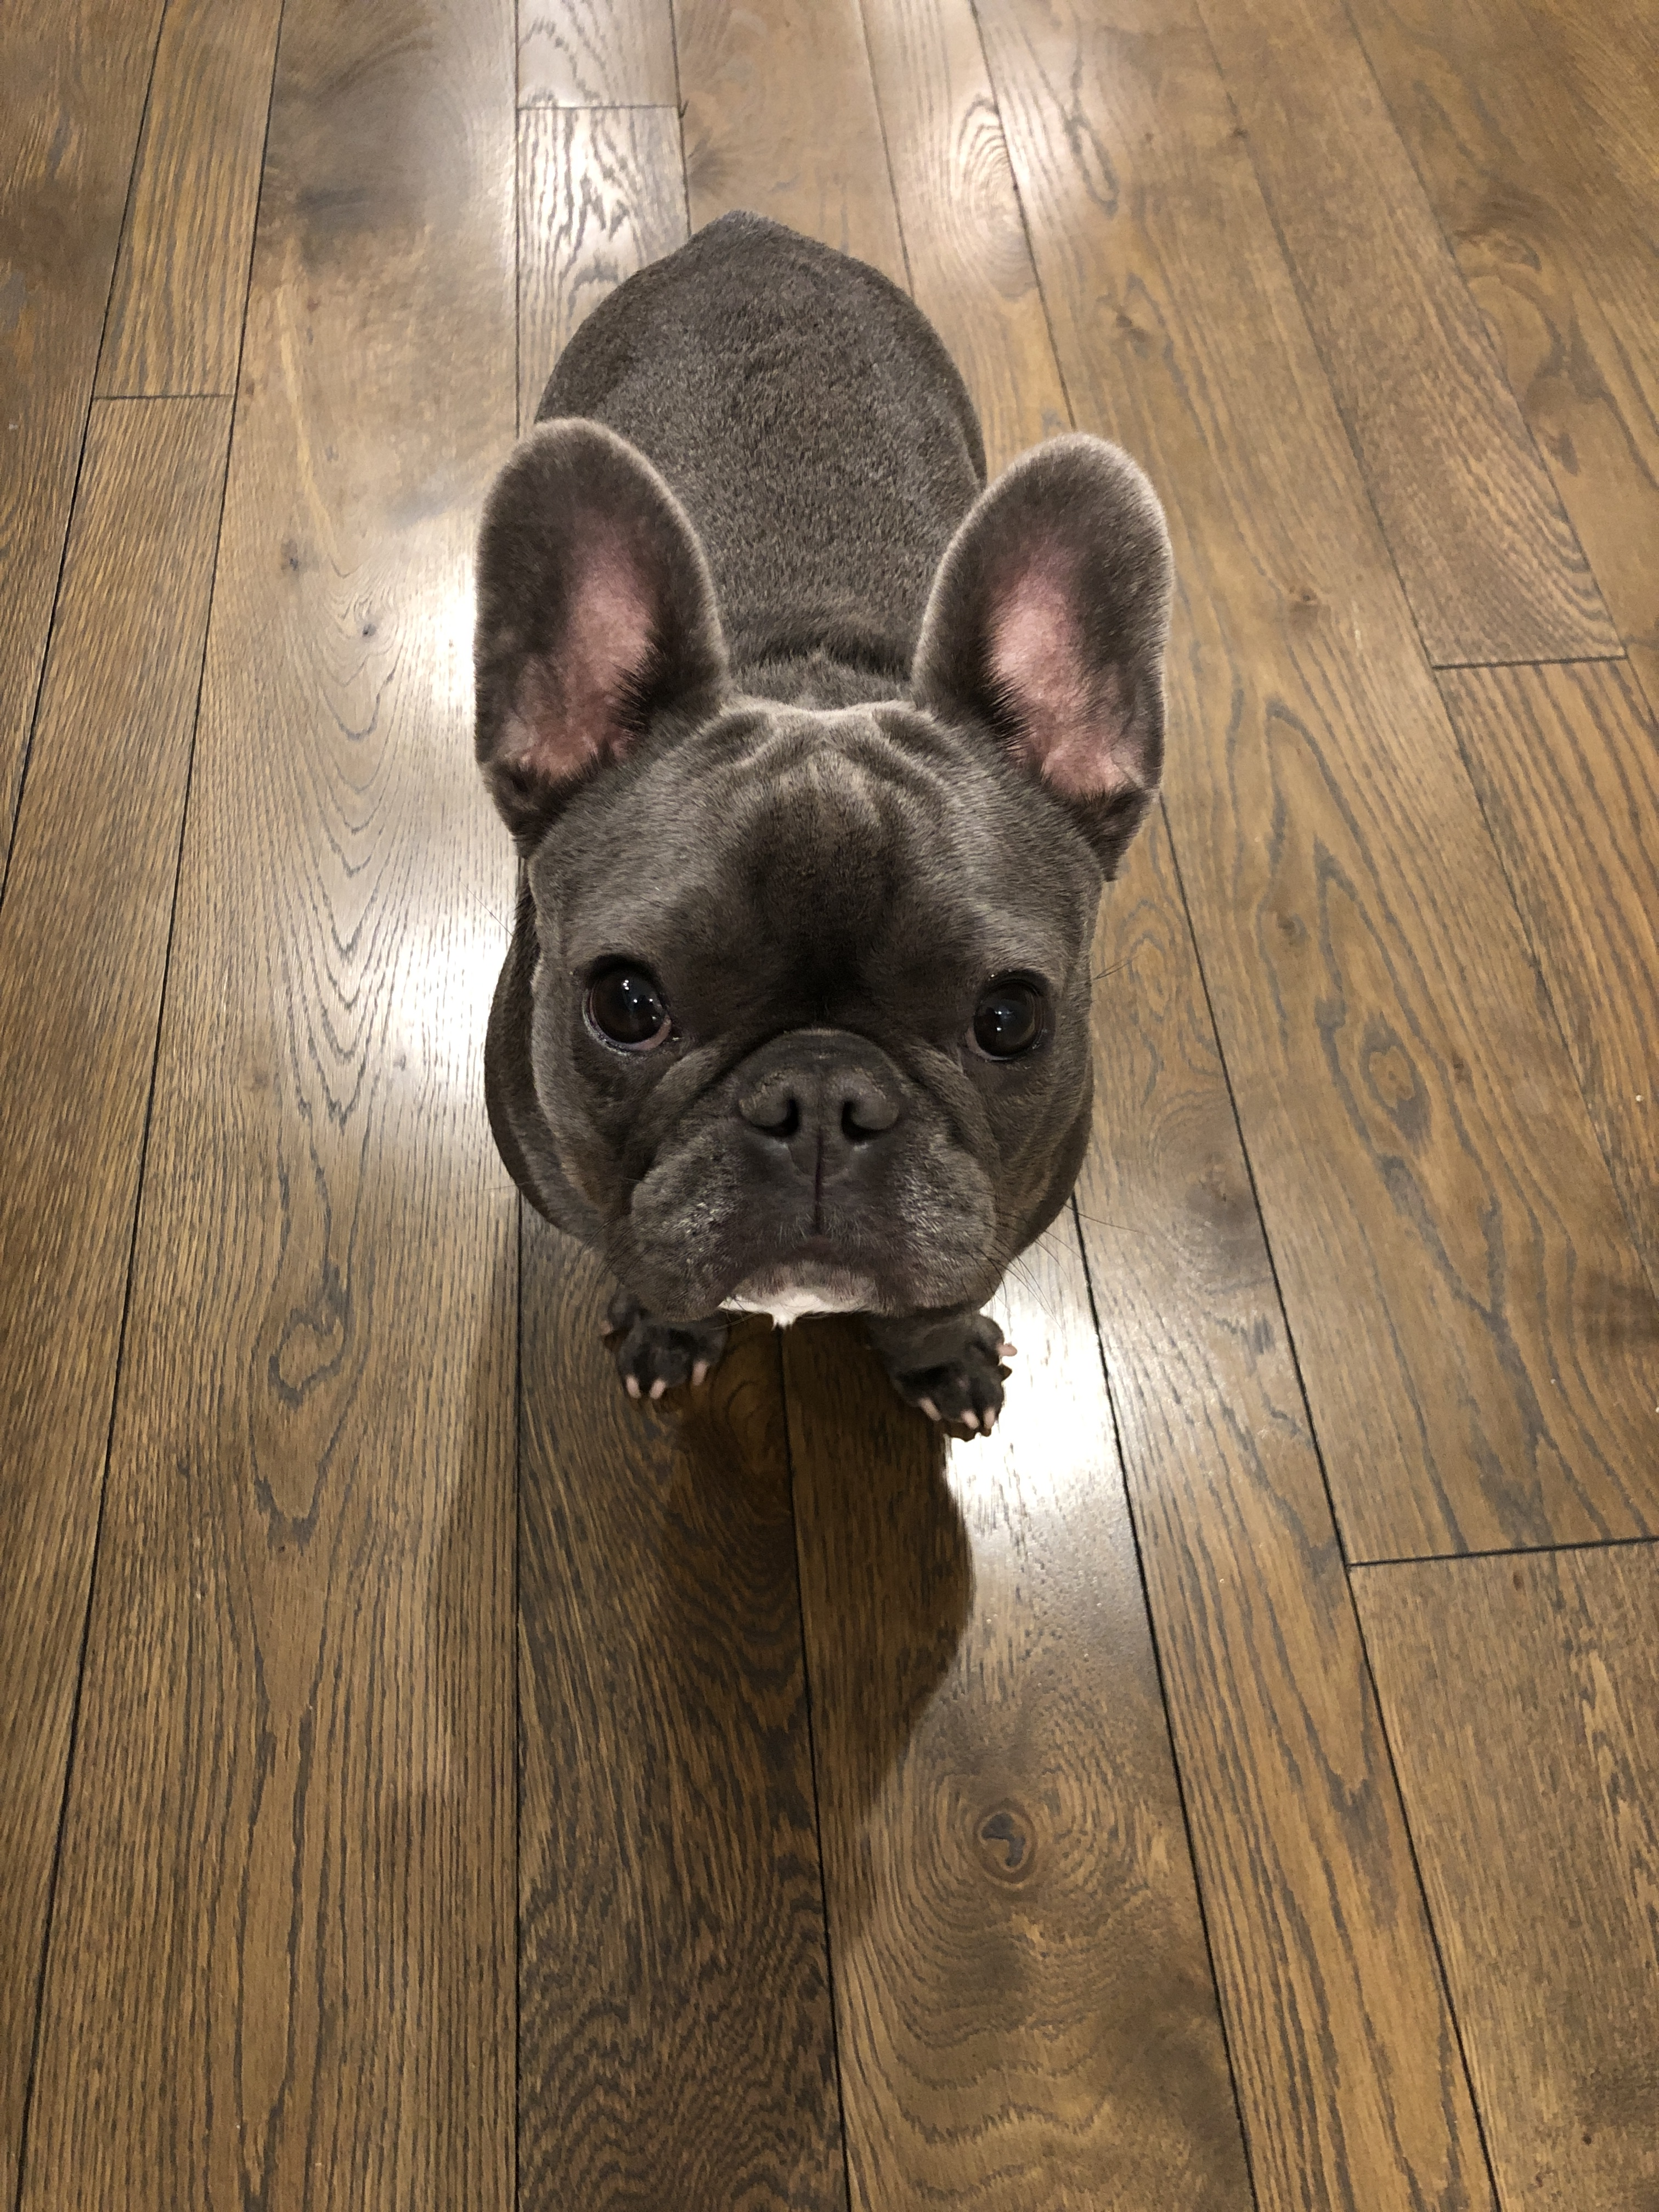lucy: (460, 202, 1173, 1453)
